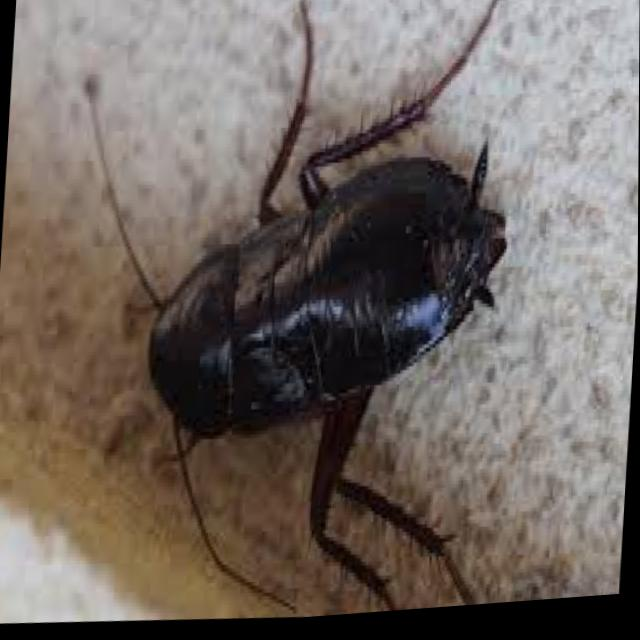Cockroach: (38, 0, 542, 638)
